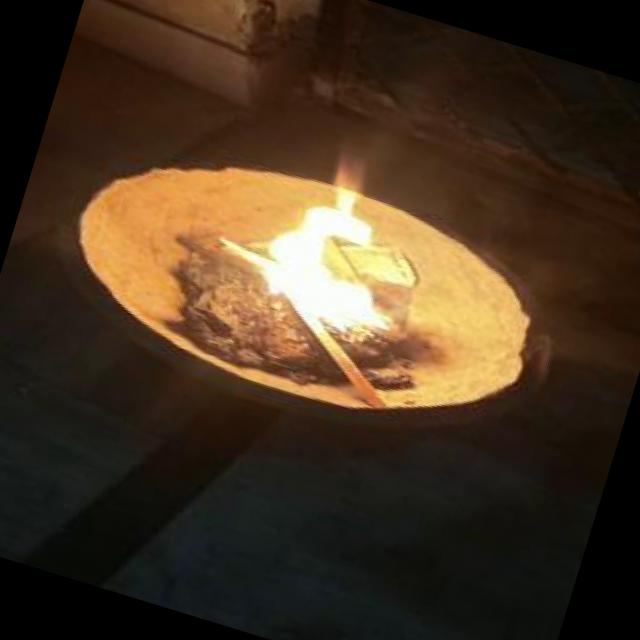fire: (239, 168, 461, 351)
